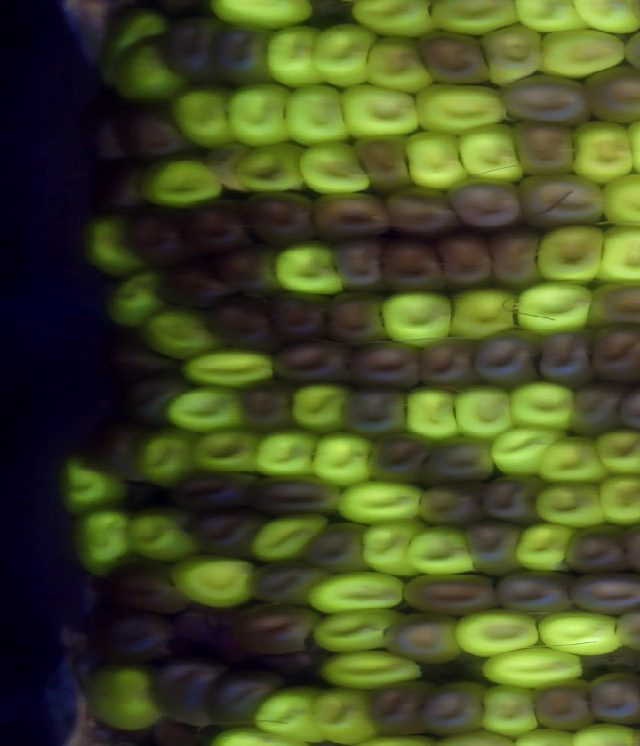fluorescent: (102, 29, 195, 105), (89, 1, 169, 89), (164, 548, 263, 616), (78, 663, 166, 739), (411, 79, 520, 139), (48, 450, 139, 521), (130, 148, 232, 210), (333, 77, 427, 144), (535, 22, 632, 86), (313, 643, 429, 696), (368, 285, 458, 353), (450, 118, 534, 190), (218, 77, 296, 154), (303, 564, 413, 618), (241, 508, 335, 571), (452, 602, 551, 661), (277, 78, 357, 151), (507, 276, 601, 337), (306, 16, 382, 91), (257, 18, 331, 95), (529, 218, 611, 286), (476, 640, 589, 689), (530, 606, 629, 661), (308, 605, 414, 656), (568, 114, 640, 189), (69, 503, 139, 580), (122, 505, 206, 569), (137, 305, 229, 363), (358, 29, 436, 97), (163, 80, 237, 151), (301, 426, 378, 494), (291, 139, 378, 199), (78, 209, 147, 284), (253, 681, 335, 744), (396, 379, 470, 448), (399, 518, 480, 581), (528, 476, 619, 532), (174, 345, 287, 390), (438, 282, 521, 343), (331, 476, 432, 526), (99, 265, 172, 334), (356, 515, 432, 581), (474, 24, 549, 90), (230, 139, 311, 200), (270, 236, 346, 301), (306, 679, 379, 746), (164, 382, 251, 438), (185, 423, 272, 479), (504, 375, 583, 436), (404, 126, 473, 195), (450, 380, 525, 443), (134, 426, 205, 491), (532, 430, 614, 485), (485, 424, 565, 480), (509, 518, 580, 580), (247, 430, 327, 485), (477, 680, 550, 740), (198, 135, 261, 203), (283, 378, 354, 438), (206, 1, 324, 35), (424, 1, 522, 39), (345, 1, 436, 41), (589, 220, 640, 291), (595, 167, 640, 236), (510, 1, 593, 38), (591, 468, 640, 528), (588, 423, 640, 479), (565, 1, 640, 39)
nonfluorescent: (142, 651, 234, 732), (80, 601, 177, 673), (494, 70, 600, 134), (510, 169, 612, 235), (234, 184, 329, 253), (229, 596, 328, 661), (110, 91, 200, 162), (239, 466, 349, 523), (151, 13, 232, 90), (440, 172, 532, 238), (94, 551, 187, 616), (396, 567, 506, 621), (117, 201, 203, 270), (163, 601, 251, 668), (199, 663, 283, 732), (76, 410, 149, 489), (410, 27, 498, 92), (171, 195, 259, 260), (388, 608, 475, 673), (412, 431, 506, 491), (373, 227, 450, 299), (304, 183, 399, 240), (506, 112, 583, 182), (340, 337, 431, 396), (377, 184, 469, 242), (160, 466, 266, 516), (465, 326, 545, 392), (492, 565, 583, 622), (183, 501, 266, 563), (201, 292, 285, 353), (429, 224, 503, 293), (108, 369, 189, 432), (267, 334, 358, 390), (415, 675, 496, 737), (526, 673, 602, 739), (556, 518, 635, 581), (477, 223, 549, 292), (242, 555, 334, 609), (362, 425, 442, 487), (334, 378, 415, 439), (318, 283, 395, 347), (410, 333, 488, 395), (361, 678, 440, 739), (299, 515, 373, 580), (209, 21, 278, 90), (460, 512, 529, 581), (323, 233, 390, 304), (103, 325, 187, 381), (79, 92, 138, 171), (576, 57, 640, 129), (351, 130, 422, 194), (211, 242, 289, 300), (561, 376, 629, 442), (151, 258, 232, 313), (533, 325, 600, 391), (412, 476, 492, 530), (561, 565, 640, 619), (475, 470, 548, 528), (263, 288, 335, 345), (582, 321, 640, 391), (583, 665, 640, 735), (84, 157, 151, 215), (235, 375, 299, 433), (582, 277, 640, 332), (608, 600, 640, 659)
